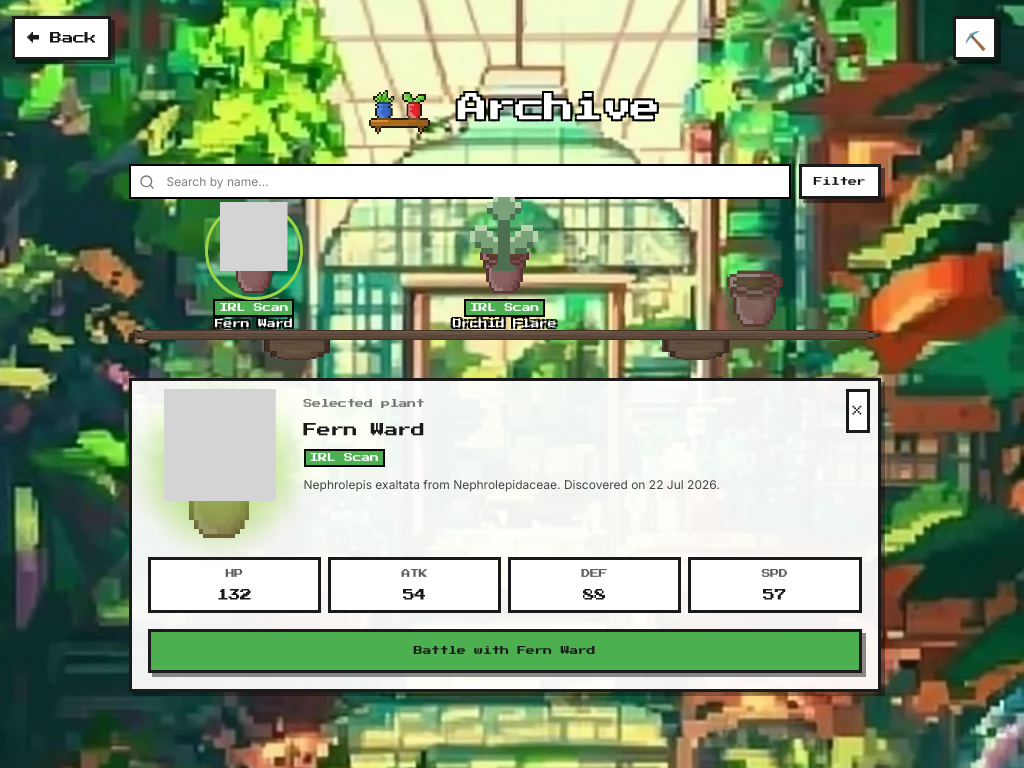
Test case: ArchivePage › shows only the selected plant on the card after switching
Expected: the heading "Fern Ward" is shown, [304,423,424,437]
Step 1. Click the button with aria-label "select orchid flare" → (505, 269), box [379,207,630,330]
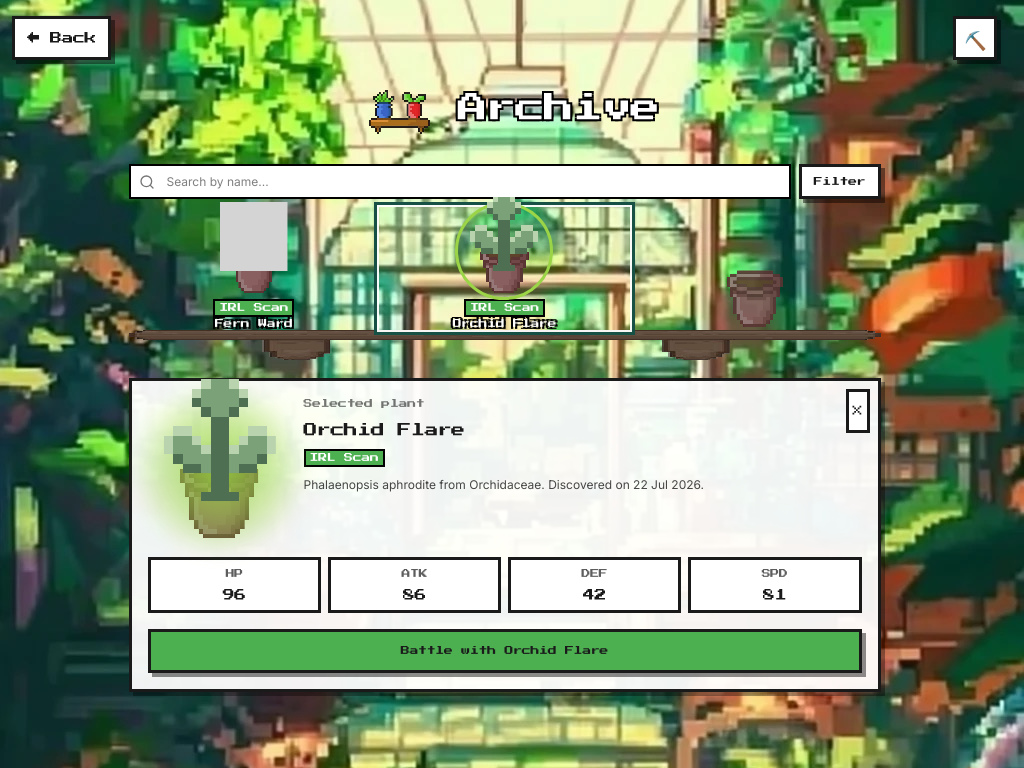
Step 2. Click the button with aria-label "select fern ward" → (254, 269), box [128,207,379,330]
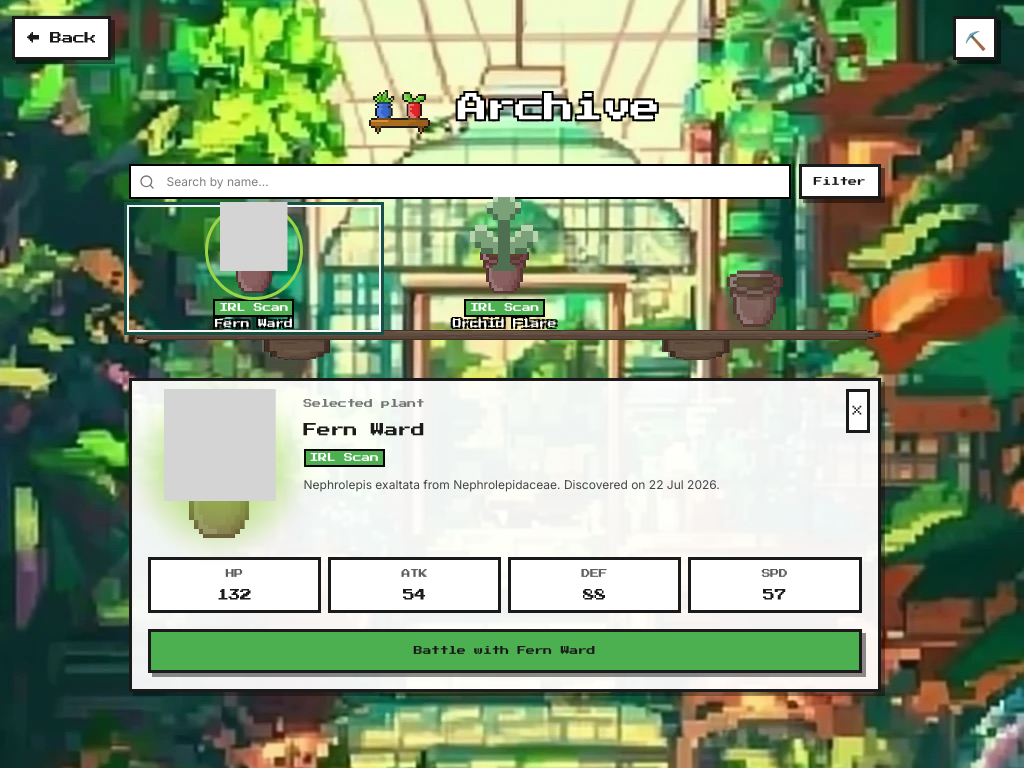
Step 3. Click the button with aria-label "select orchid flare" → (505, 269), box [379,207,630,330]
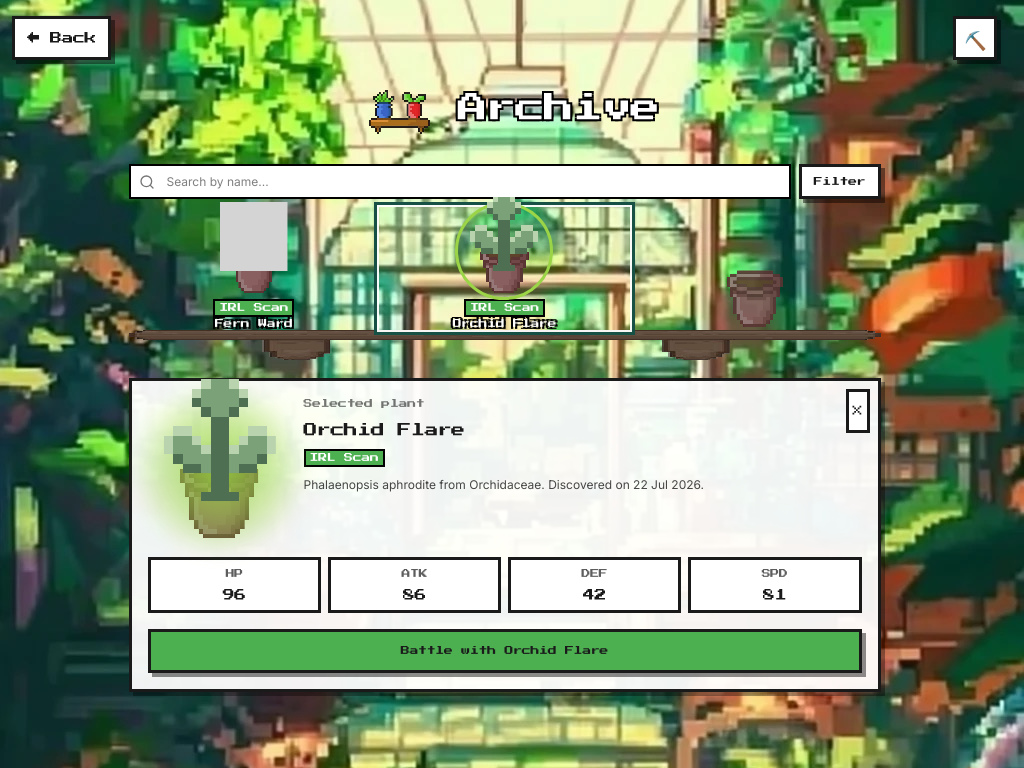
Step 4. Click the button with aria-label "select fern ward" → (254, 269), box [128,207,379,330]
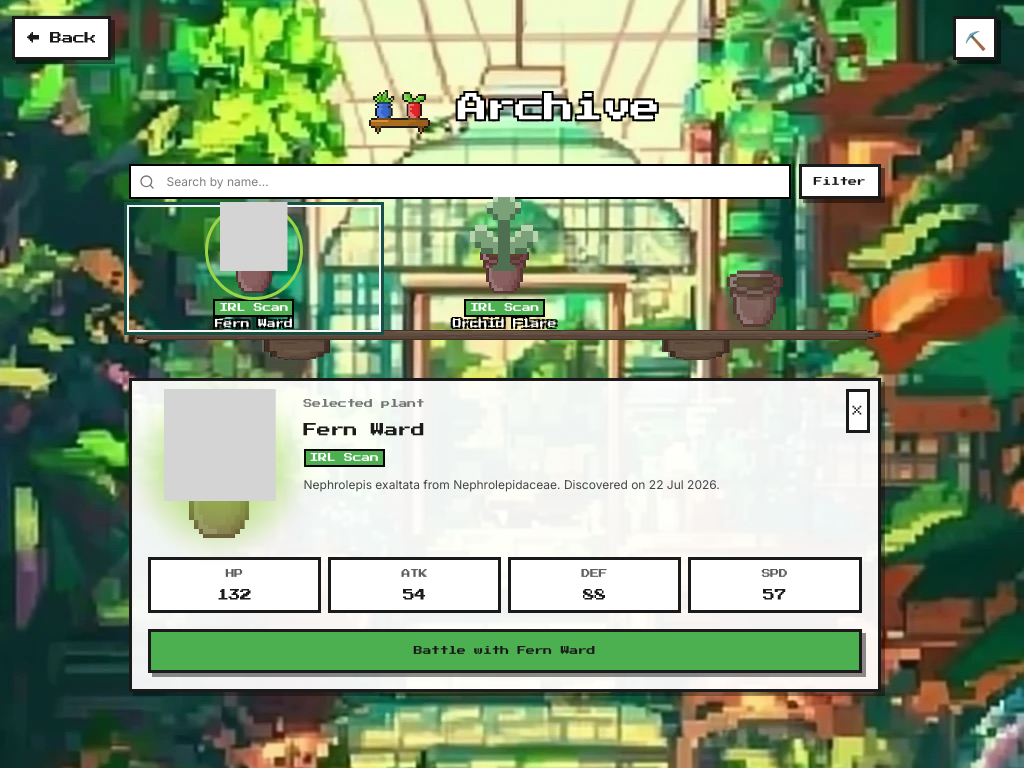
Expected: the heading "Fern Ward" is shown, [304,423,424,437]
